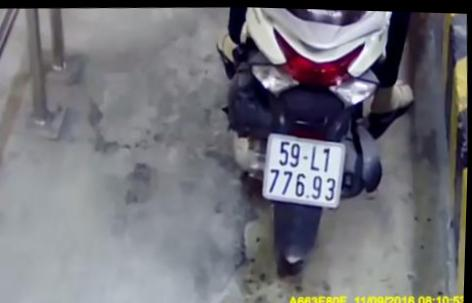LP: (260, 127, 353, 211)
